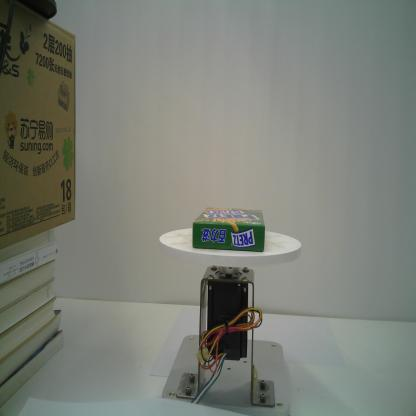Dessert: (192, 206, 266, 253)
